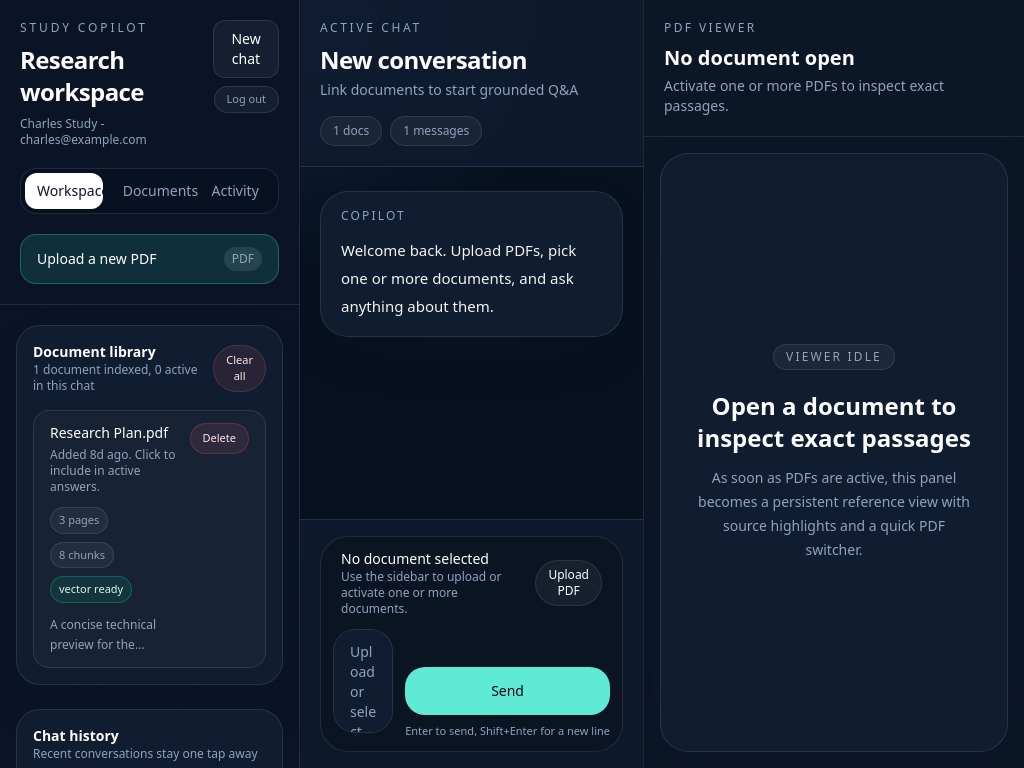
Test: App › switches sidebar content across workspace, documents, and activity
The image size is (1024, 768).
Expected: the heading "Document library" is shown, [33,342,156,361]
Expected: the heading "Chat history" is shown, [33,726,119,744]
Click the button "Documents" at coordinates (150, 191), box [111,173,188,209]
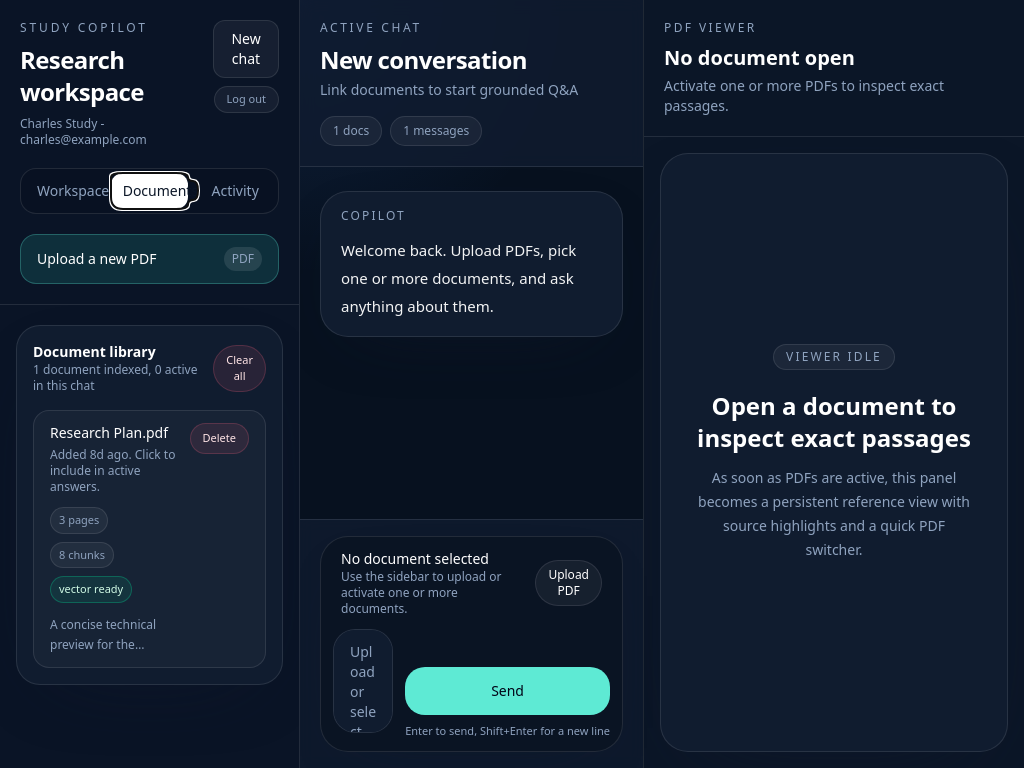
Expected: the heading "Document library" is shown, [33,342,156,361]
Result: the heading "Chat history" is gone
Click the button "Activity" at coordinates (235, 191), box [196,173,274,209]
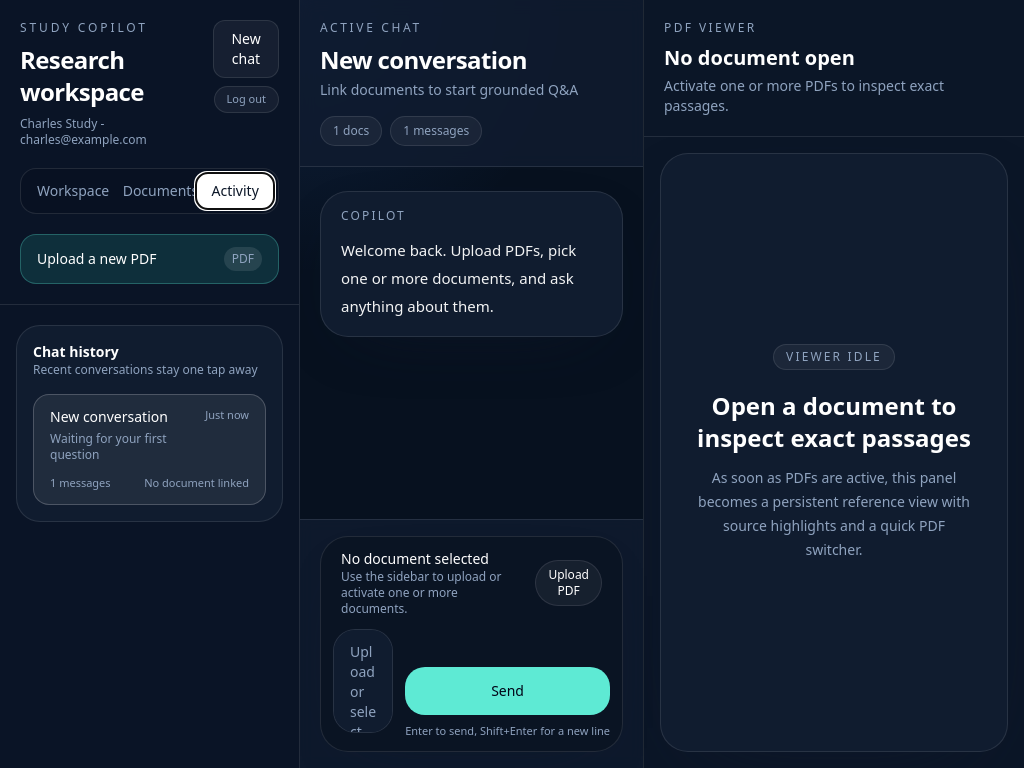
Result: the heading "Chat history" is shown at [33,342,119,361]
Result: the heading "Document library" is gone
Click the button "Workspace" at coordinates (64, 191), box [25,173,103,209]
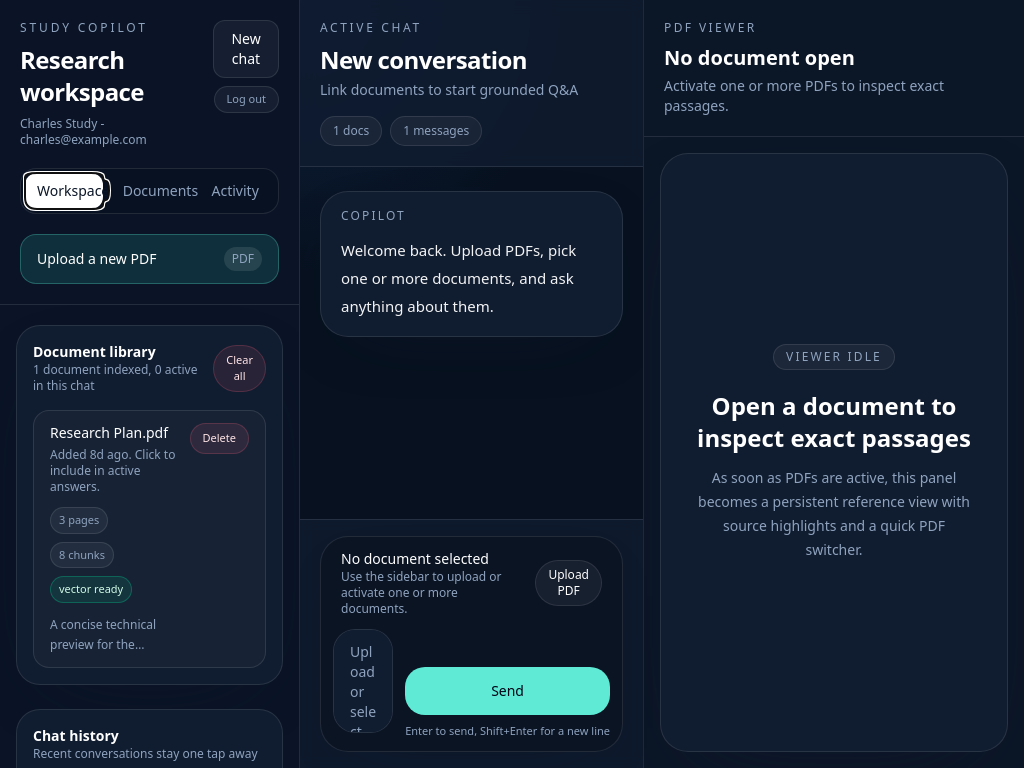
Result: the heading "Chat history" is shown at [33,726,119,744]
Result: the heading "Document library" is shown at [33,342,156,361]
